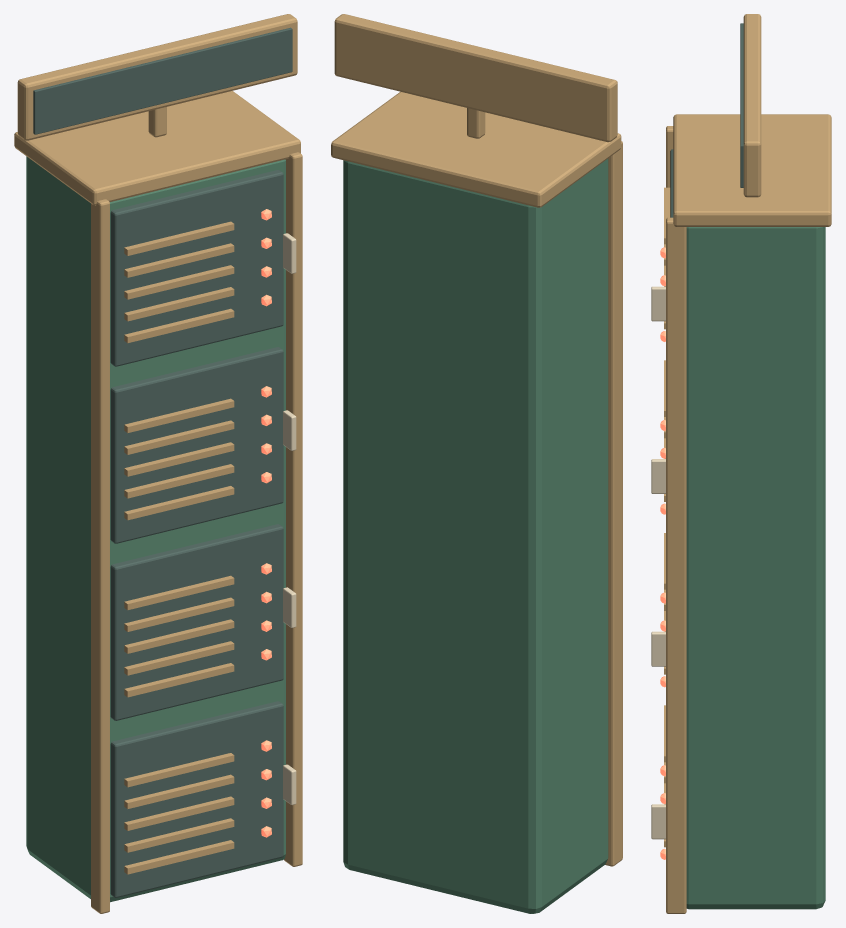
The model's file is common_quota_wall_blocked.glb.
The picture shows the model from 3 angles, left to right: view 1: azimuth 30°, elevation 25°; view 2: azimuth 150°, elevation 25°; view 3: azimuth 270°, elevation 25°; orthographic projection. The views are drawn at different scales.
Parts seen in each view (by area): view 1: common_quota_wall_blocked__common-dark-timber, common_quota_wall_blocked__common-brushed-brass, common_quota_wall_blocked__common-sage, common_quota_wall_blocked__common-ivory, common_quota_wall_blocked__common-status-blocked; view 2: common_quota_wall_blocked__common-sage, common_quota_wall_blocked__common-brushed-brass; view 3: common_quota_wall_blocked__common-sage, common_quota_wall_blocked__common-brushed-brass, common_quota_wall_blocked__common-ivory, common_quota_wall_blocked__common-dark-timber, common_quota_wall_blocked__common-status-blocked.
Part boxes in pixels (x1,y1,x2,y2): common_quota_wall_blocked__common-dark-timber: (33, 27, 292, 897); common_quota_wall_blocked__common-brushed-brass: (14, 14, 302, 913); common_quota_wall_blocked__common-sage: (26, 156, 285, 902); common_quota_wall_blocked__common-ivory: (283, 233, 296, 804); common_quota_wall_blocked__common-status-blocked: (261, 209, 271, 837); common_quota_wall_blocked__common-sage: (343, 158, 608, 913); common_quota_wall_blocked__common-brushed-brass: (331, 14, 622, 866); common_quota_wall_blocked__common-sage: (686, 227, 825, 909); common_quota_wall_blocked__common-brushed-brass: (664, 14, 831, 913); common_quota_wall_blocked__common-ivory: (651, 286, 665, 839); common_quota_wall_blocked__common-dark-timber: (670, 23, 743, 217); common_quota_wall_blocked__common-status-blocked: (660, 247, 665, 859).
Bounding box in the file's own units: 2.1 × 5.94 × 1.23.
